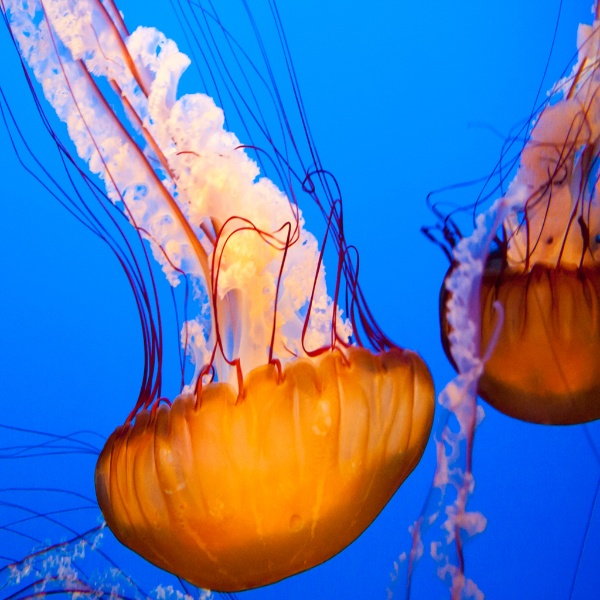Jellyfish: (0, 0, 435, 593), (400, 0, 599, 599), (421, 0, 599, 599)
